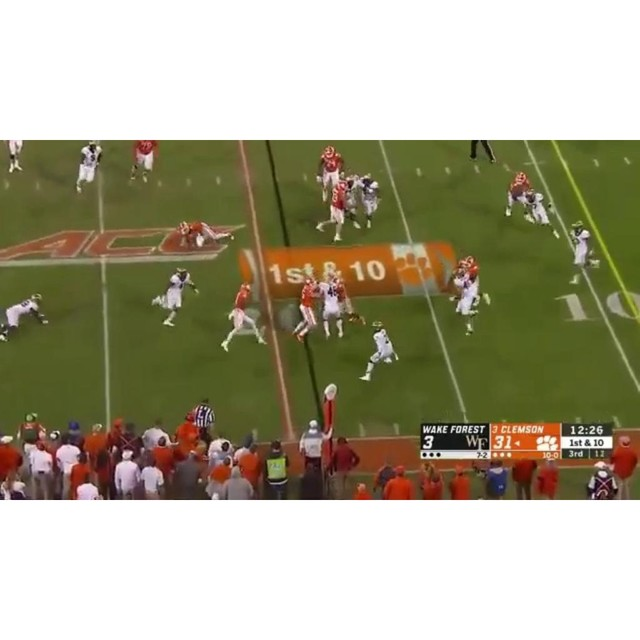american-football-player: (220, 283, 265, 352), (151, 267, 198, 328), (358, 319, 399, 383), (0, 293, 48, 343), (315, 180, 352, 242), (448, 267, 480, 338), (567, 222, 599, 286), (291, 276, 319, 343), (524, 188, 559, 240), (319, 273, 345, 340), (317, 146, 344, 205), (75, 141, 102, 194), (504, 171, 533, 220), (359, 174, 381, 230), (129, 141, 157, 183), (6, 140, 24, 172)
